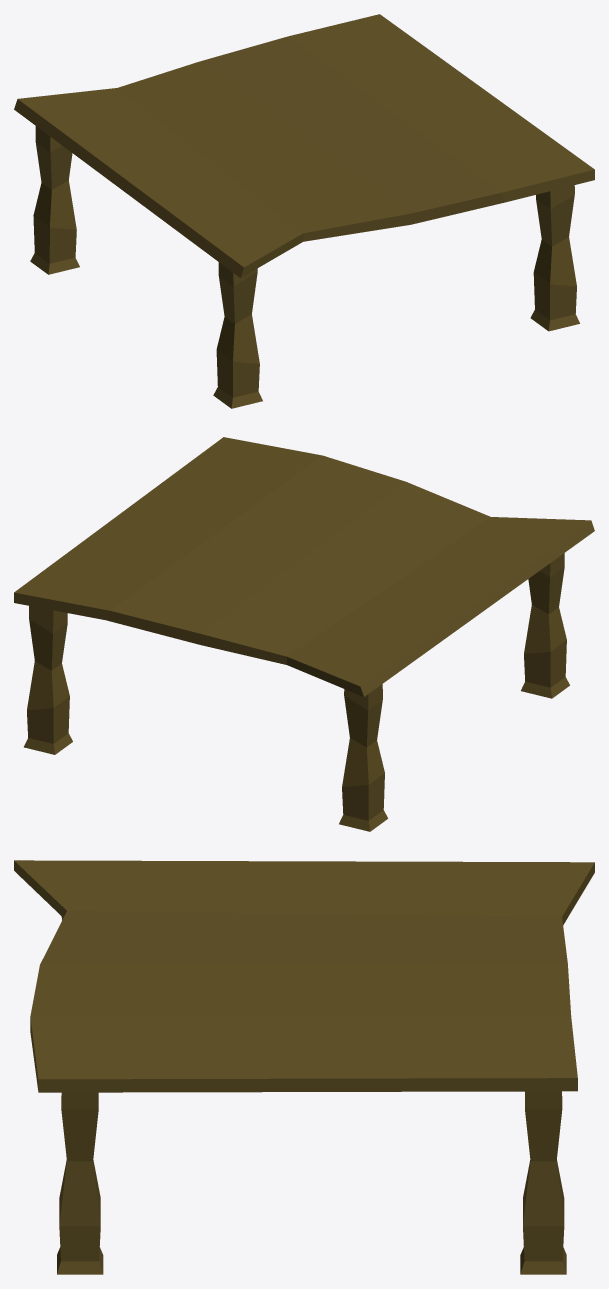
The model's file is table.fbx.
The picture shows the model from 3 angles, top to bottom: view 1: azimuth 30°, elevation 25°; view 2: azimuth 150°, elevation 25°; view 3: azimuth 270°, elevation 25°; orthographic projection. The views are drawn at different scales.
Parts seen in each view (by area): view 1: Cube; view 2: Cube; view 3: Cube.
Boxes of the visible parts, bbox=[...] form: Cube: bbox=[14, 14, 594, 408]; Cube: bbox=[14, 437, 594, 831]; Cube: bbox=[14, 860, 594, 1274].
Size of the model in its own units: 230 by 96.69 by 251.
